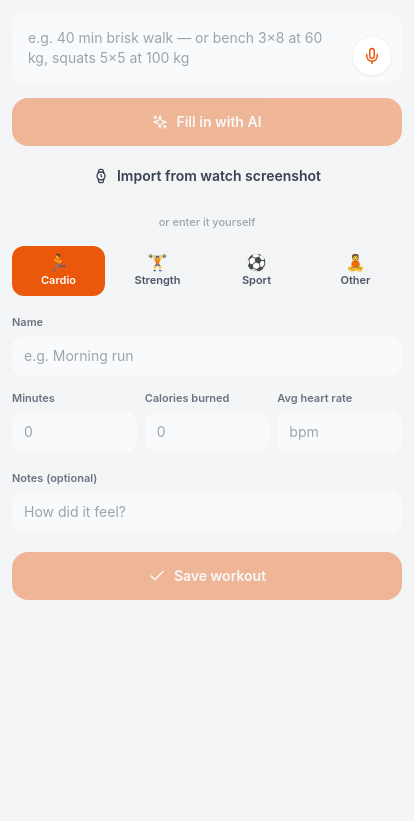
Test: WorkoutForm › groups sets by exercise: add exercises, each with its own sets
Later steps or results of the test are not shown.
Click the button "🏋️ Strength" at (158, 271), box [111,246,204,296]
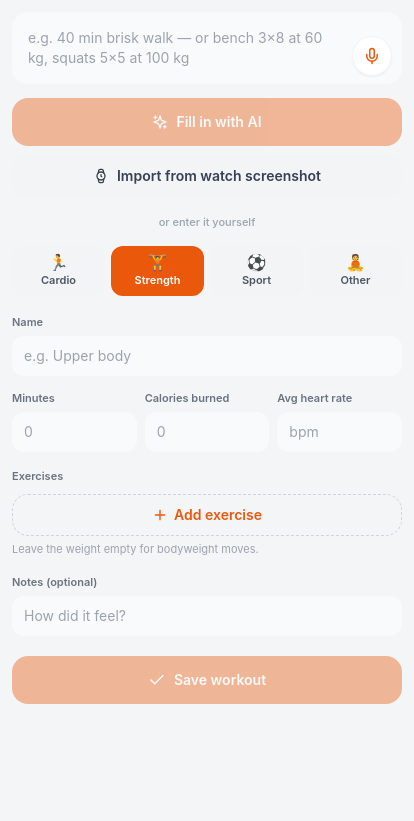
Type "Push day" into the field with placeholder "e.g. Upper body" at (207, 356), box [12,336,402,376]
Click the button "Add exercise" at (207, 515), box [12,494,402,536]
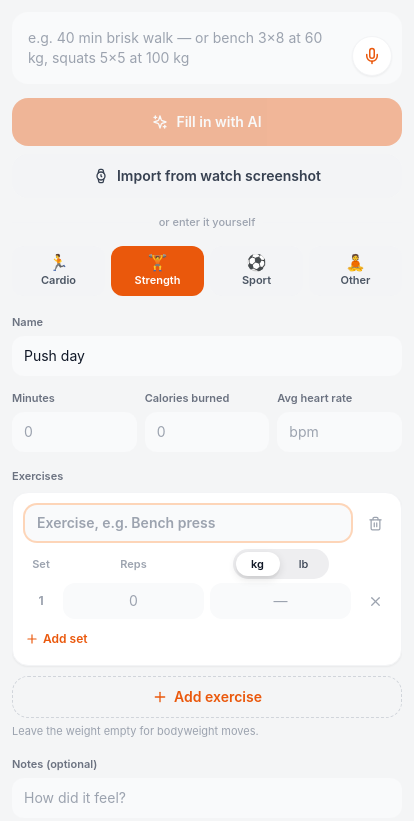
Type "Bench press" into the field named "Exercise 1 name" at (188, 523), box [25,505,351,541]
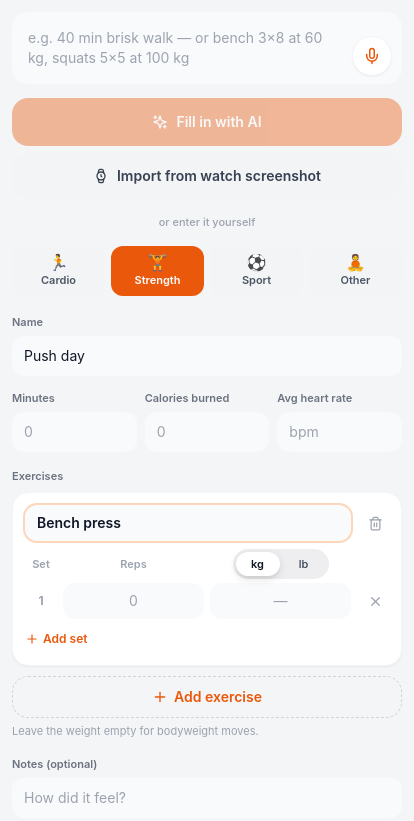
Type "8" into the field named "Exercise 1 set 1 reps" at (134, 601), box [63,583,204,619]
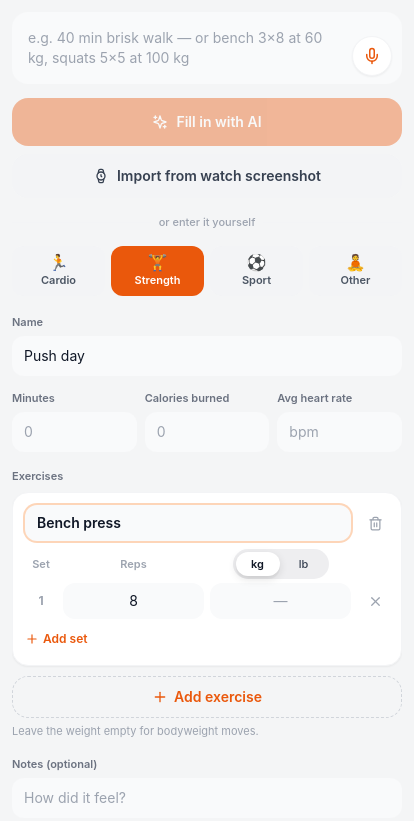
Type "60" into the field named "Exercise 1 set 1 weight" at (280, 601), box [210,583,351,619]
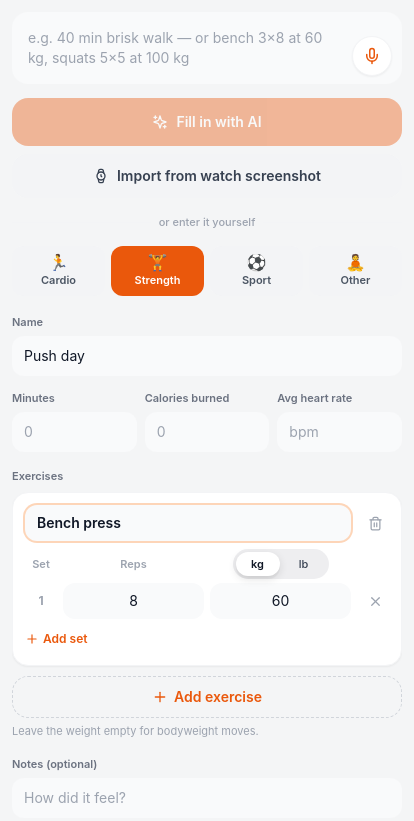
A new set copies the one before.
Click the button with aria-label "Add set to exercise 1" at (56, 639), box [25,625,88,653]
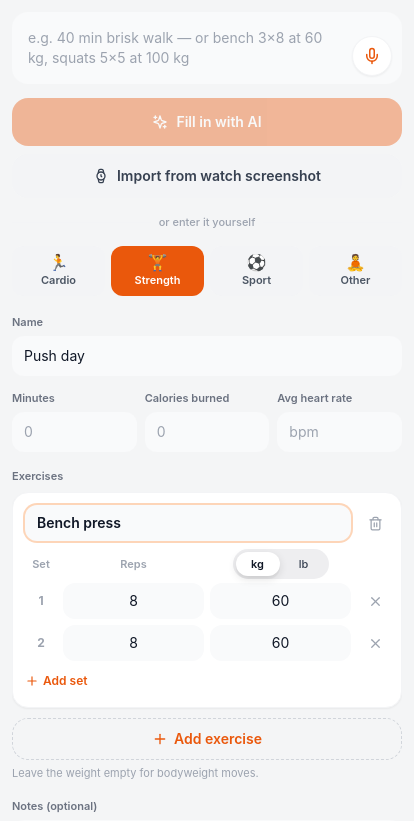
Expected: the field named "Exercise 1 set 2 weight" holds "60", [210,625,351,661]
